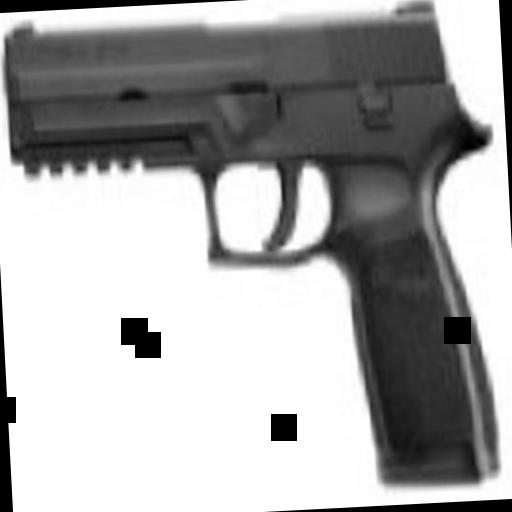Handgun: (5, 0, 507, 510)
